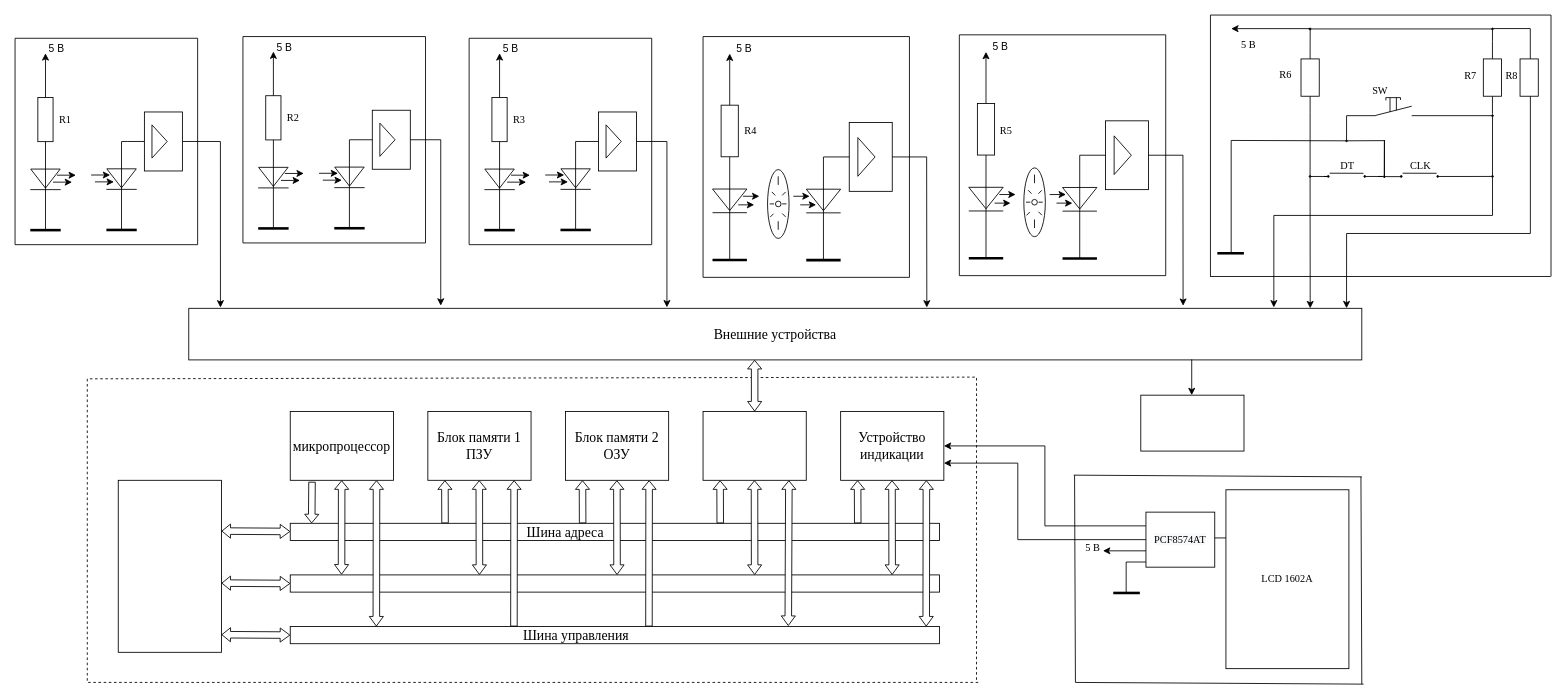
The diagram is 1567 pixels wide and 700 high, and some of its shapes have lost their labels. Here are the shapes that lost their labels. From the top down, the centre of each, then its label:
At (x=1192, y=422): "KPM-G1205B".
At (x=754, y=445): "Устройство ввода/вывода информации".
At (x=169, y=565): "Центральный процессор".
At (x=614, y=583): "Шина данных".
